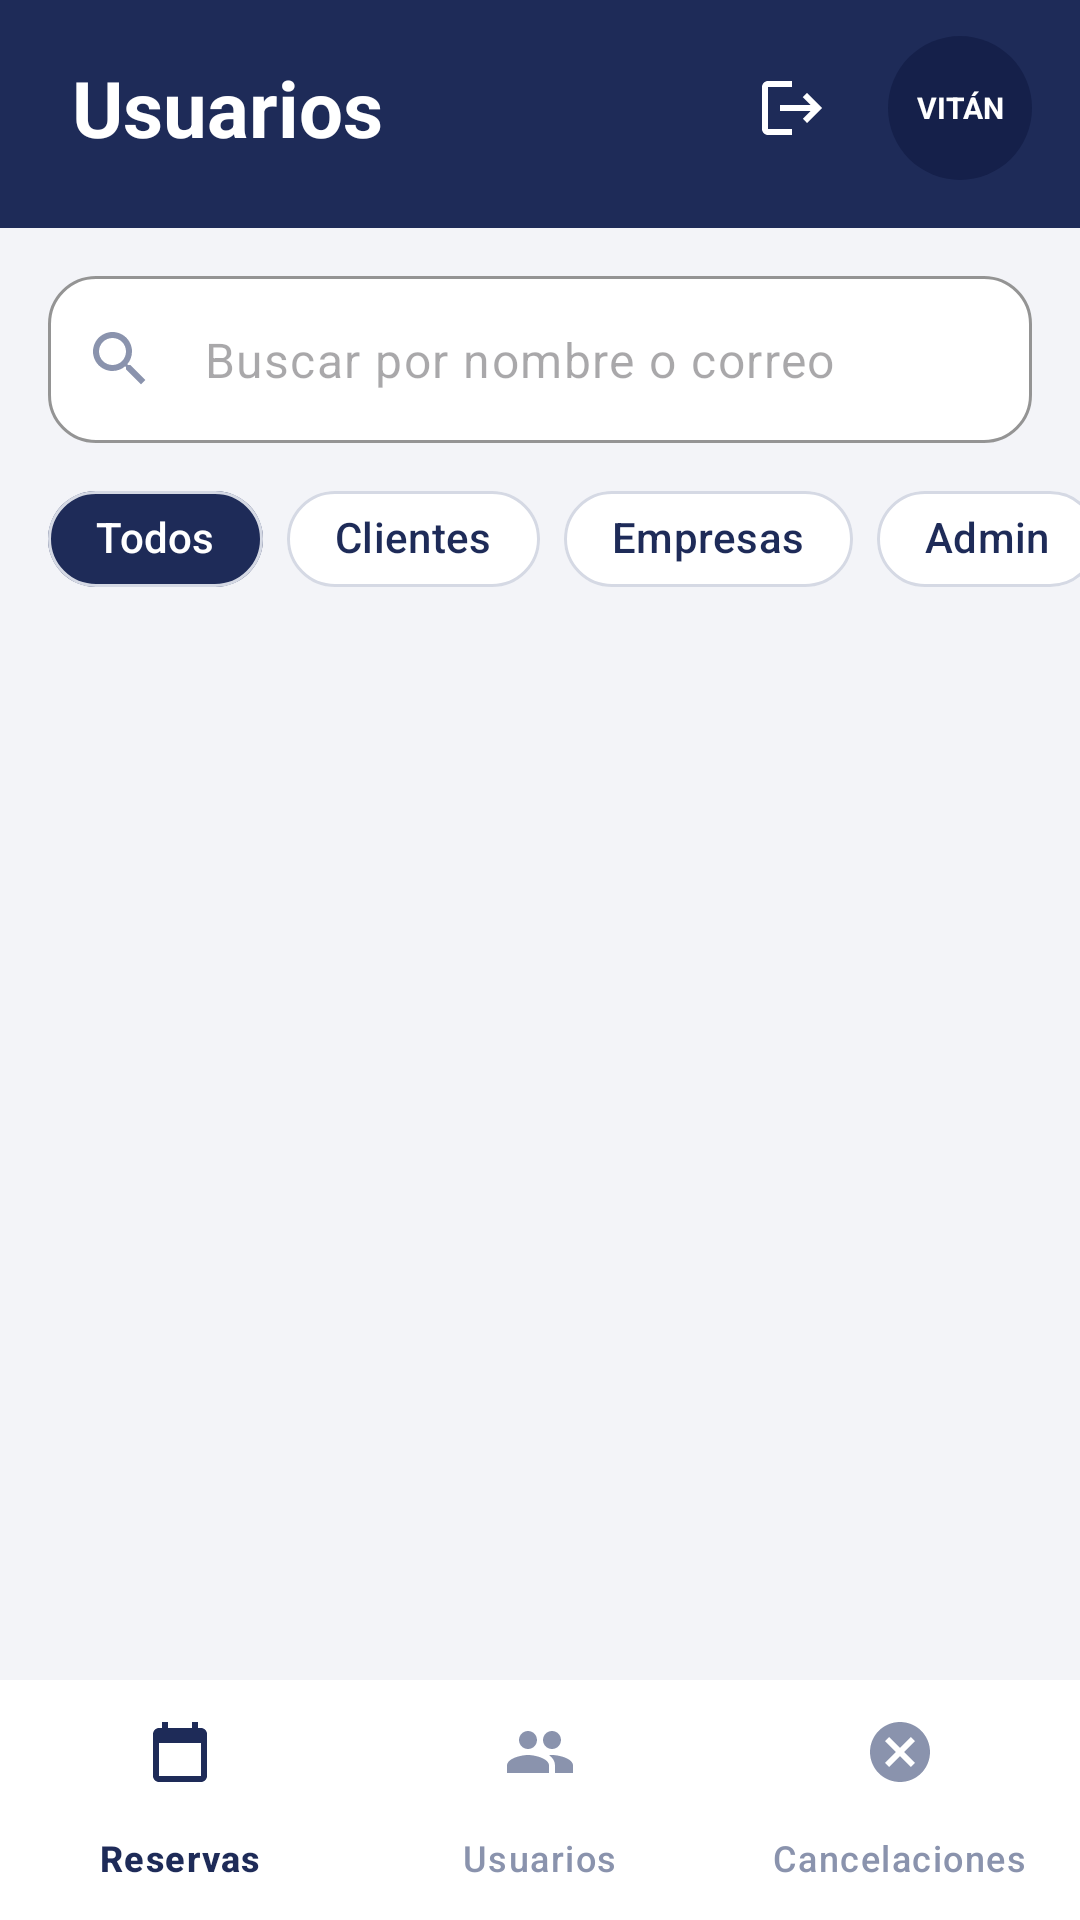

Point at icon controls on the screen. Image size 1080x1920, points as (x=x, y=y).
Cerrar sesión: (x=792, y=108)
